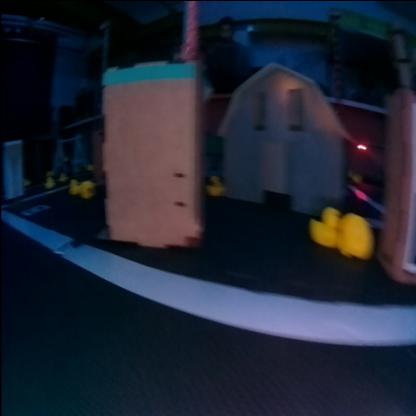Duckie: (339, 212, 373, 257), (310, 206, 338, 246), (206, 175, 223, 195), (80, 180, 95, 198), (68, 178, 78, 194), (44, 175, 54, 187), (58, 171, 66, 179)
QR code: (21, 203, 49, 215)
